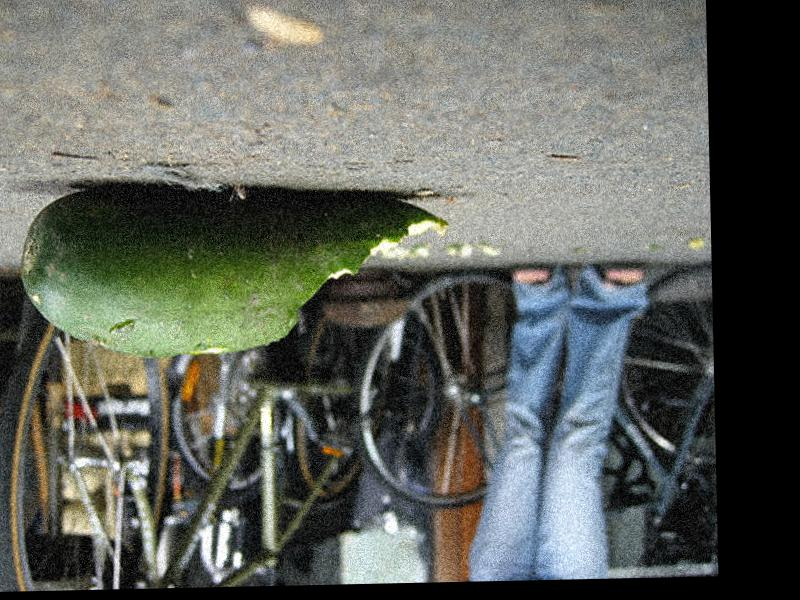Cucumber: (20, 183, 456, 358)
